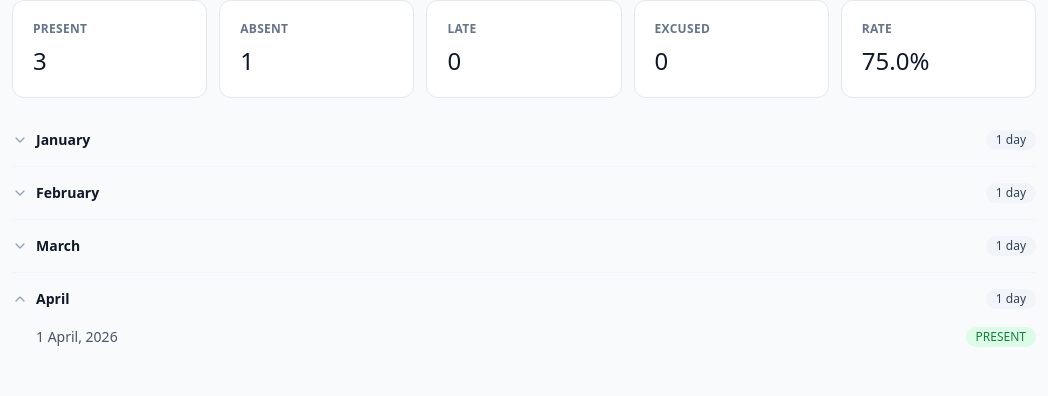
Scenario: AttendanceSummaryPanel › keeps earlier months collapsed until their title is clicked
The image size is (1048, 396).
Expected: the text "5 January, 2026" is not shown
Click the button "January 1 day". click: (63, 140)
box: [12,118,1036,162]
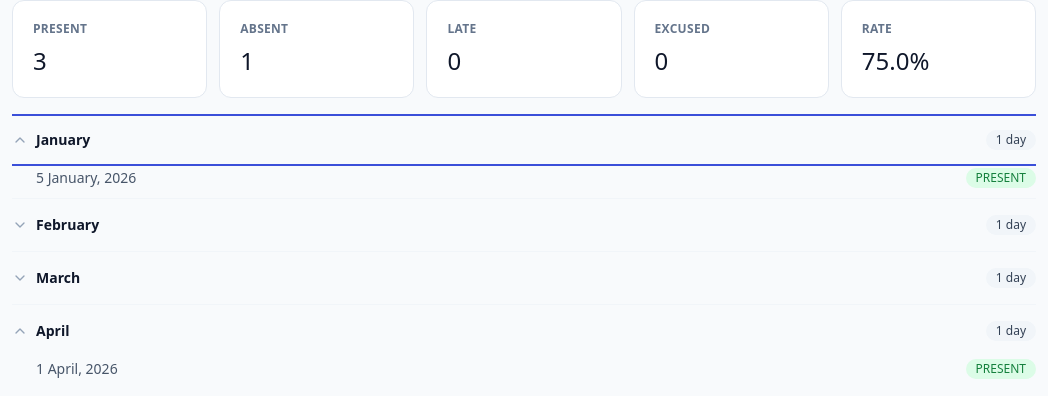
Result: the button "January 1 day" is expanded at [12,118,1036,162]
Result: the text "5 January, 2026" is shown at [36,168,136,188]
